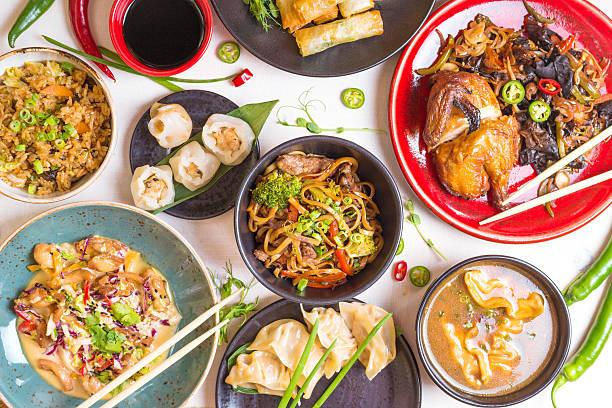Braised Crucian Carp: (391, 1, 607, 244), (0, 200, 217, 406), (232, 135, 399, 303), (416, 255, 571, 405), (215, 296, 418, 407), (0, 47, 116, 203), (129, 89, 258, 219)
